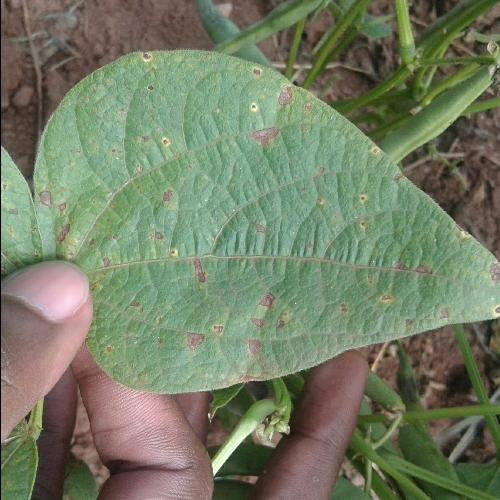hawar: (134, 236, 307, 366), (231, 64, 315, 190), (348, 230, 458, 324), (118, 53, 182, 212)
